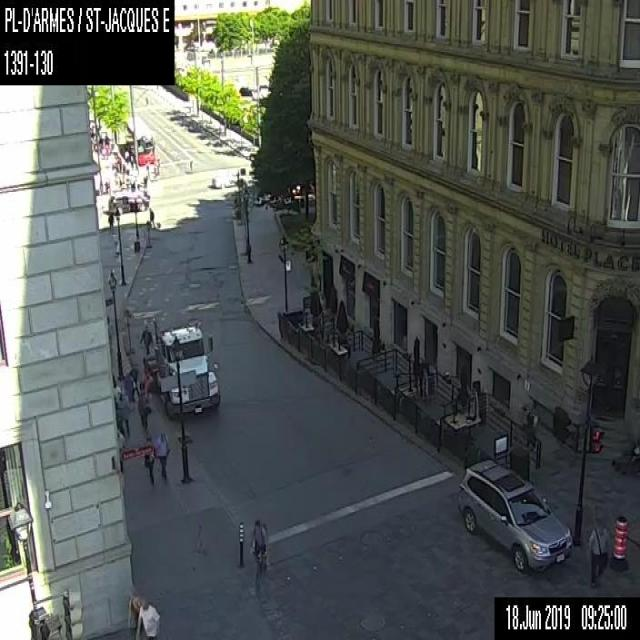bus: (124, 117, 154, 164)
construction: (609, 513, 629, 571)
cyclist: (249, 516, 268, 587)
pedestrian: (588, 515, 608, 584), (135, 595, 159, 639), (140, 434, 154, 486), (155, 432, 169, 483), (136, 386, 152, 430), (138, 325, 152, 355), (106, 210, 115, 234), (148, 205, 154, 229), (104, 178, 111, 194), (188, 158, 193, 171), (144, 92, 148, 106)
vehicle: (454, 454, 574, 574), (141, 323, 221, 417), (107, 187, 150, 214), (210, 168, 239, 189)
